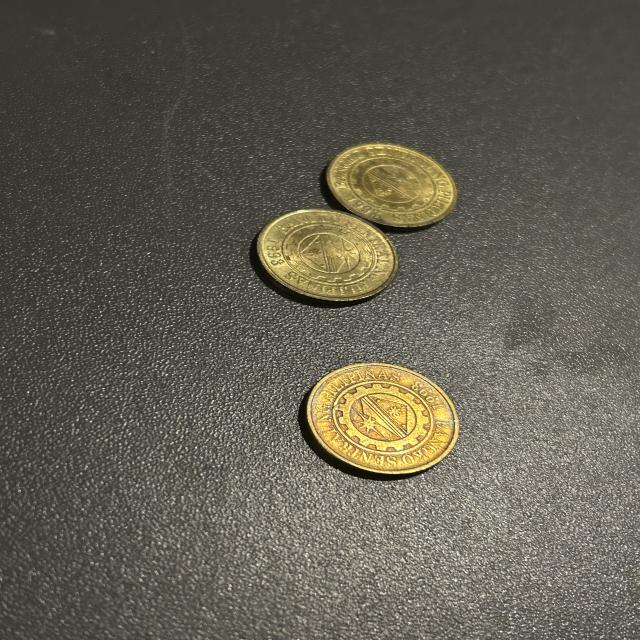25Cent_Old_Back: (326, 364, 457, 458), (271, 216, 387, 300), (334, 143, 449, 225)
